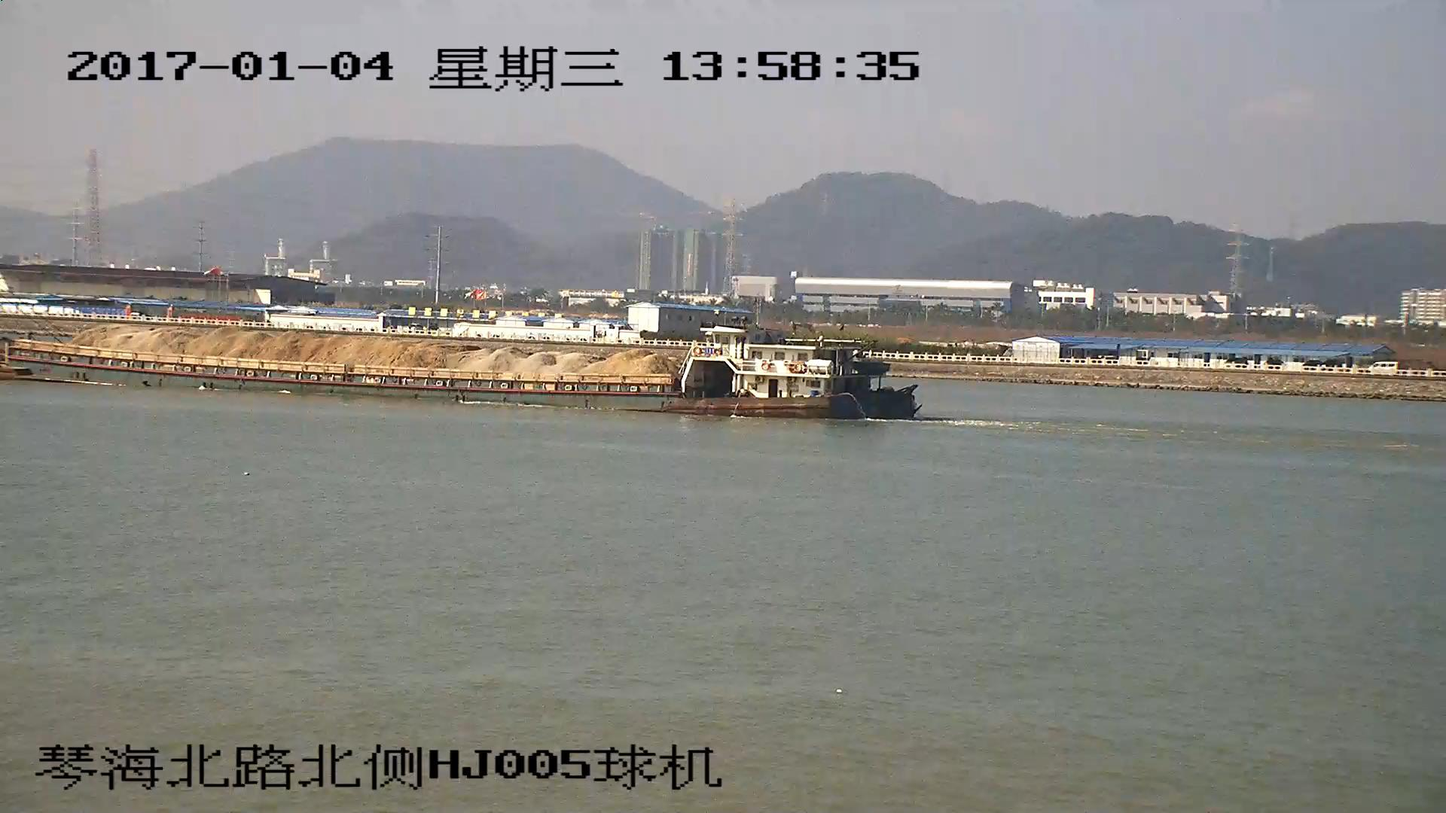ore carrier: (0, 322, 918, 421)
